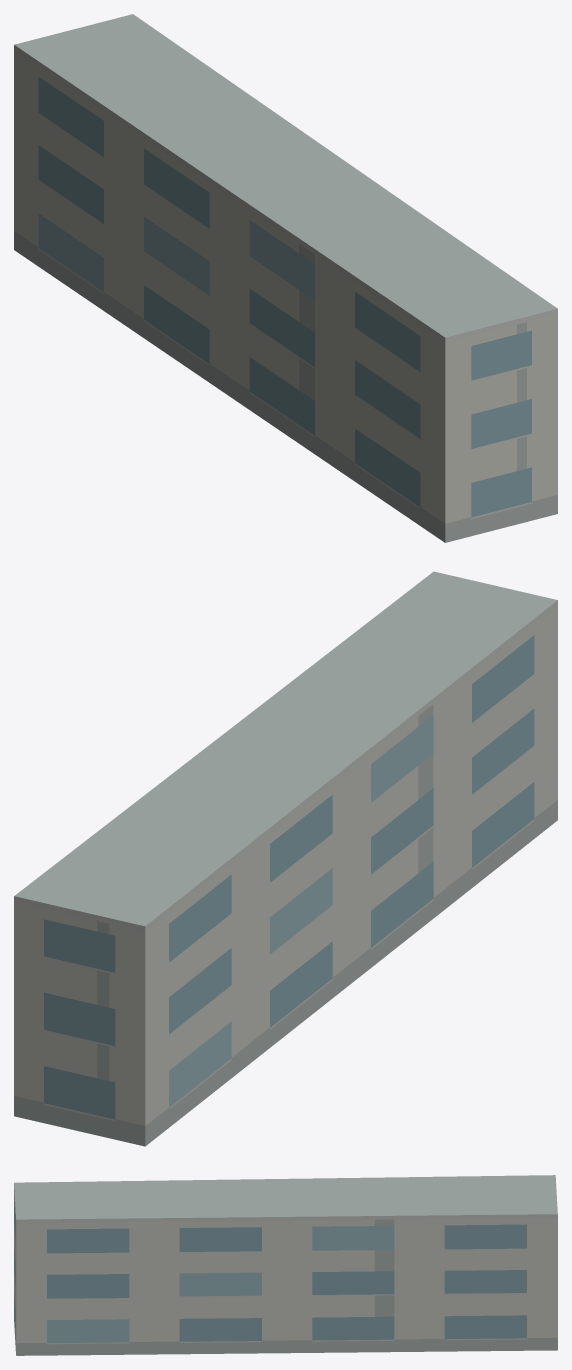
The model's file is survey-upis-33032300.glb.
3 views of the same model, one above another, from view 1: azimuth 30°, elevation 25°; view 2: azimuth 150°, elevation 25°; view 3: azimuth 270°, elevation 25° (orthographic). The views are drawn at different scales.
Visible parts, largest first — view 1: survey-upis-33032300.tmp; view 2: survey-upis-33032300.tmp; view 3: survey-upis-33032300.tmp.
Part boxes in pixels (x1,y1,x2,y2): survey-upis-33032300.tmp: [14, 14, 557, 542]; survey-upis-33032300.tmp: [14, 571, 557, 1146]; survey-upis-33032300.tmp: [14, 1175, 557, 1355].
Bounding box in the file's own units: 6.42 × 9.15 × 33.11.
